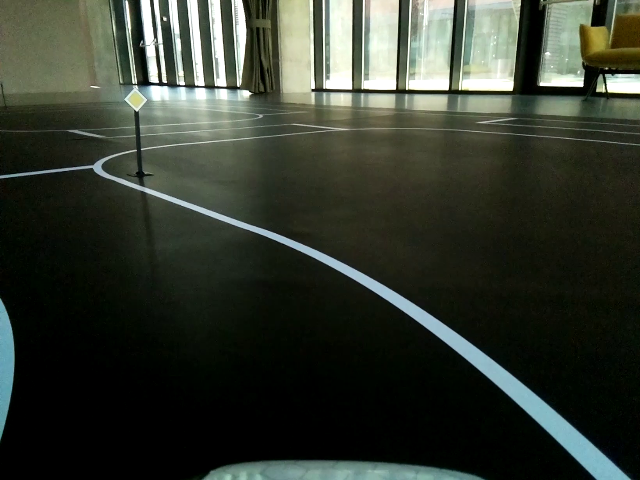priority: (123, 87, 149, 113)
